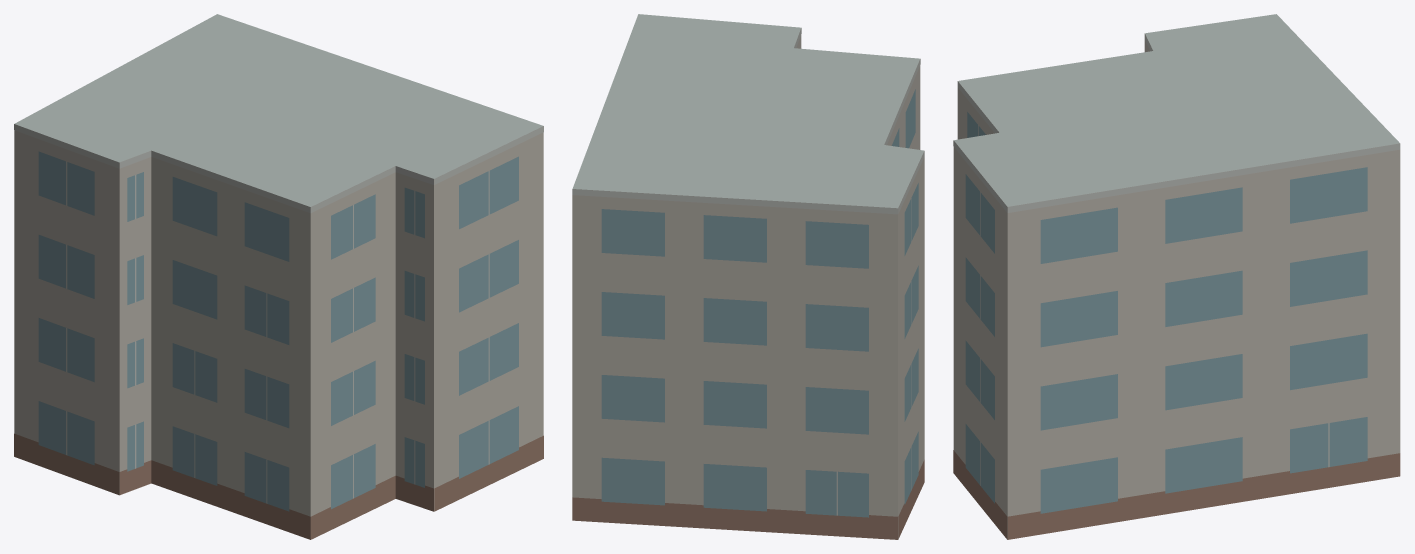
Rendered from survey-upis-33016940.glb.
3 views of the same model, side by side, from view 1: azimuth 30°, elevation 25°; view 2: azimuth 150°, elevation 25°; view 3: azimuth 270°, elevation 25° (orthographic).
Parts seen in each view (by area): view 1: survey-upis-33016940.tmp; view 2: survey-upis-33016940.tmp; view 3: survey-upis-33016940.tmp.
Boxes of the visible parts, x1,y1,x2,y2 form: survey-upis-33016940.tmp: (14, 14, 543, 539); survey-upis-33016940.tmp: (572, 14, 924, 539); survey-upis-33016940.tmp: (953, 14, 1400, 539).
Bounding box in the file's own units: 16.23 × 13.05 × 15.88.
